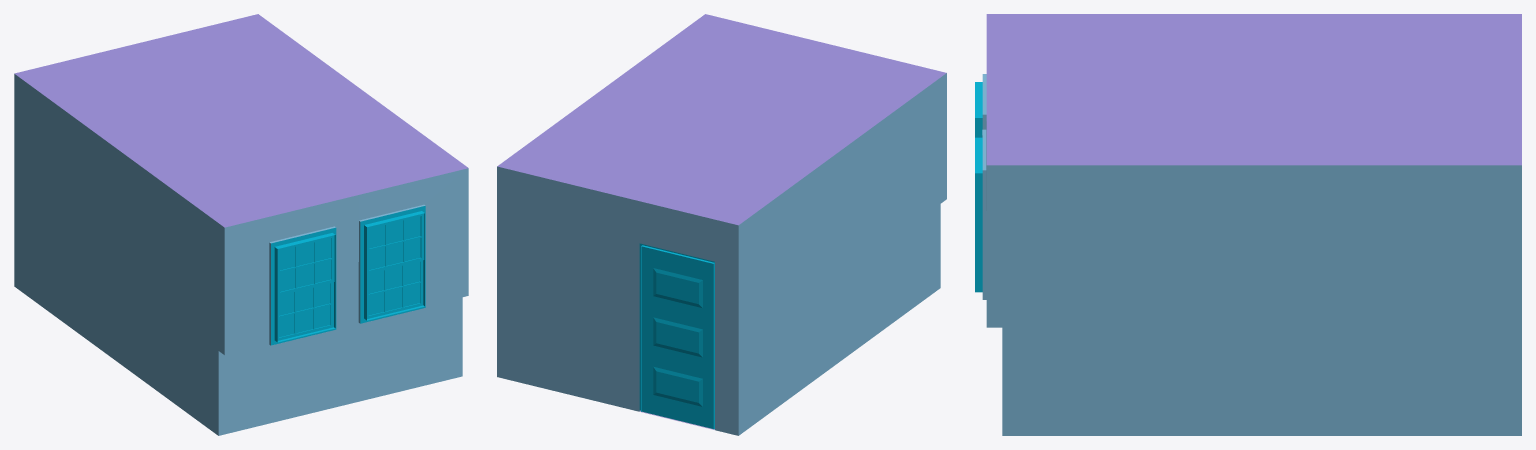
The model's file is basecamp (with medkit + robot).fbx.
3 renders of one model, left to right at view 1: azimuth 30°, elevation 25°; view 2: azimuth 150°, elevation 25°; view 3: azimuth 270°, elevation 25°, orthographic. The views are drawn at different scales.
Parts seen in each view (by area): view 1: wall, roof, window, window.001; view 2: wall, roof, door, door frame; view 3: wall, roof, window.
Boxes of the visible parts, <box> form: wall: <box>14,74,468,435</box>; roof: <box>14,14,468,227</box>; window: <box>360,206,425,323</box>; window.001: <box>271,227,336,345</box>; wall: <box>497,73,946,435</box>; roof: <box>497,14,946,225</box>; door: <box>641,246,713,428</box>; door frame: <box>639,243,714,429</box>; wall: <box>982,74,1521,435</box>; roof: <box>986,14,1521,165</box>; window: <box>975,137,982,292</box>.
Bounding box in the file's own units: 3 × 2.5 × 4.58.
